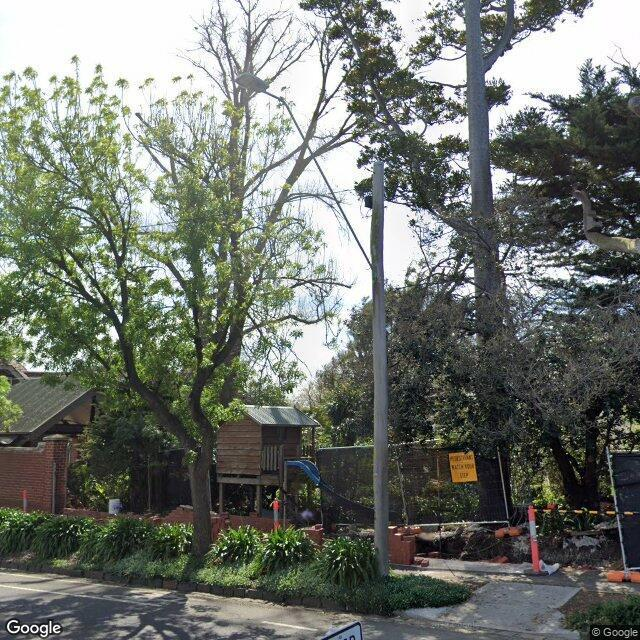steel-pole: (372, 161, 389, 579)
streetlight: (234, 73, 376, 273)
